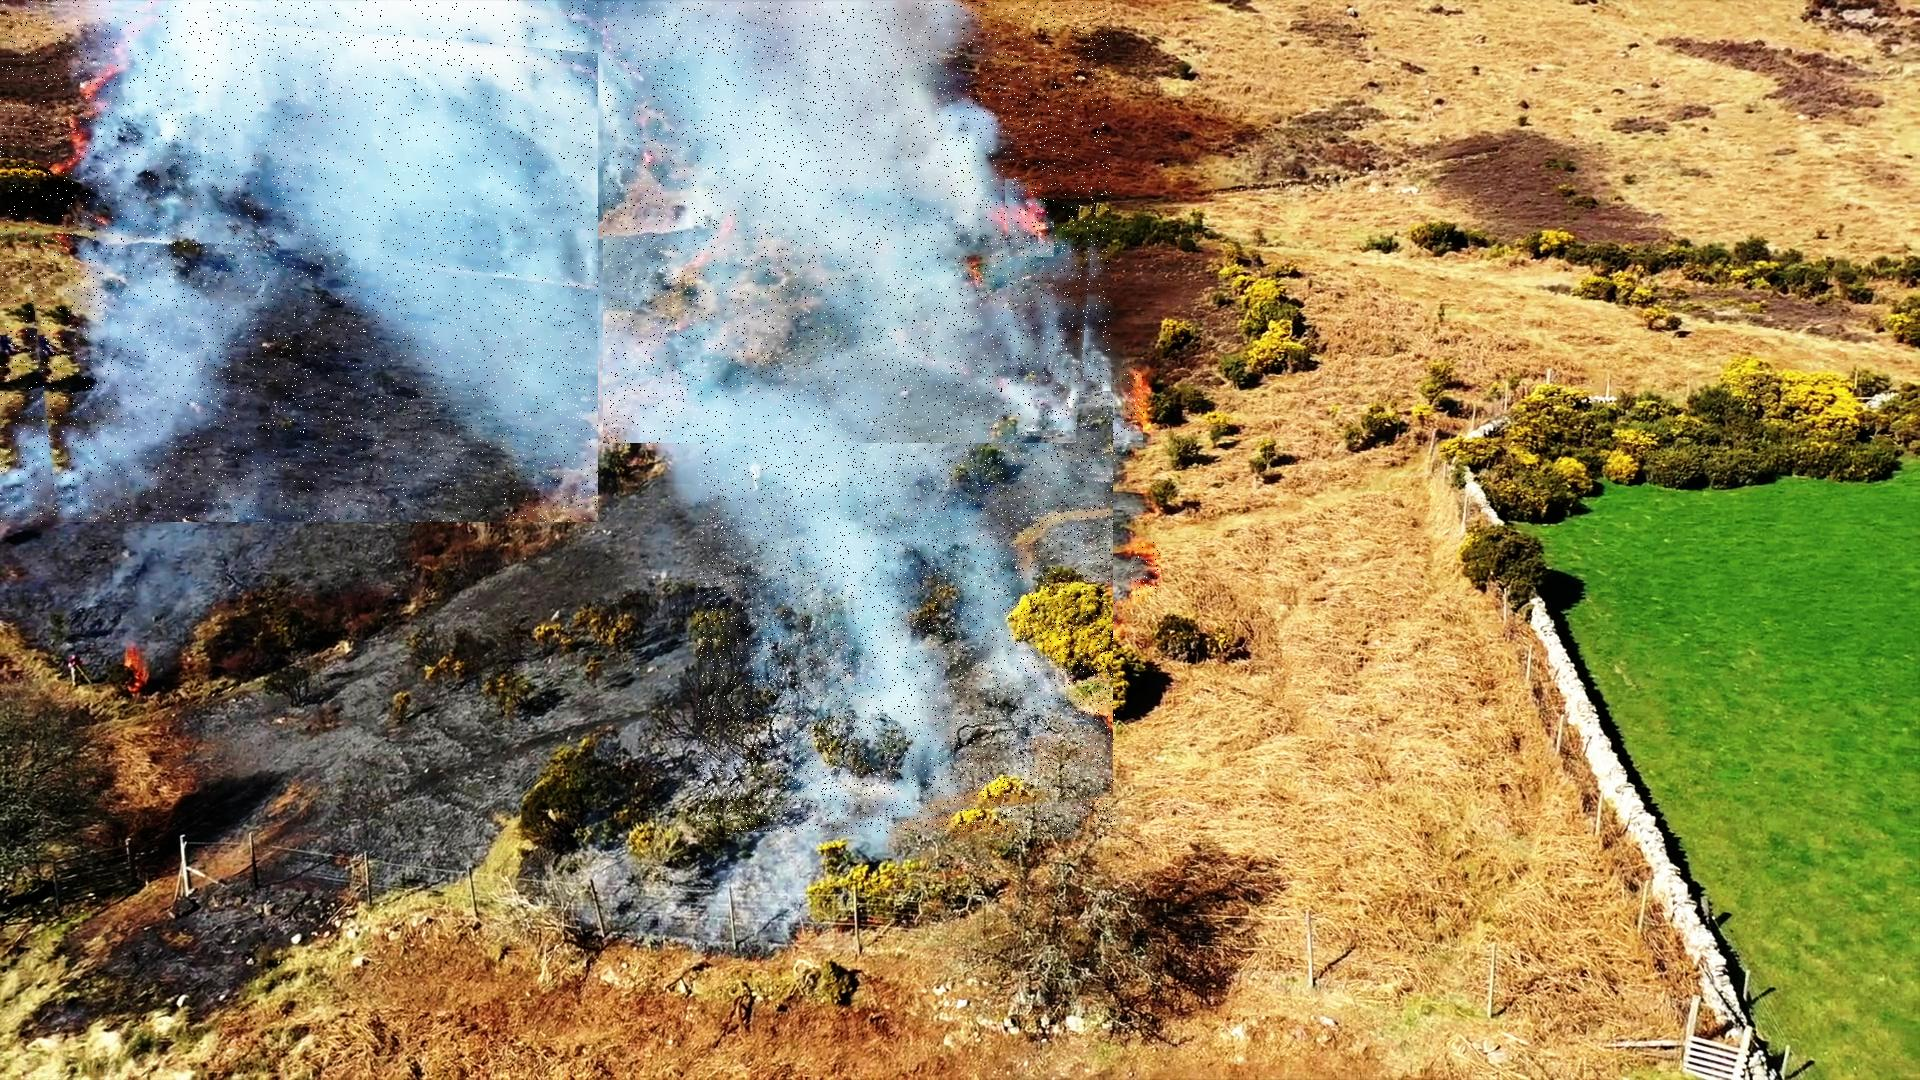fire: (1006, 181, 1057, 257), (1109, 367, 1146, 443), (1131, 543, 1161, 600)
smoke: (0, 0, 598, 522), (603, 3, 1111, 446), (699, 393, 1116, 834)
